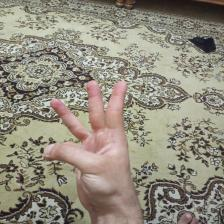five: (39, 77, 151, 212)
